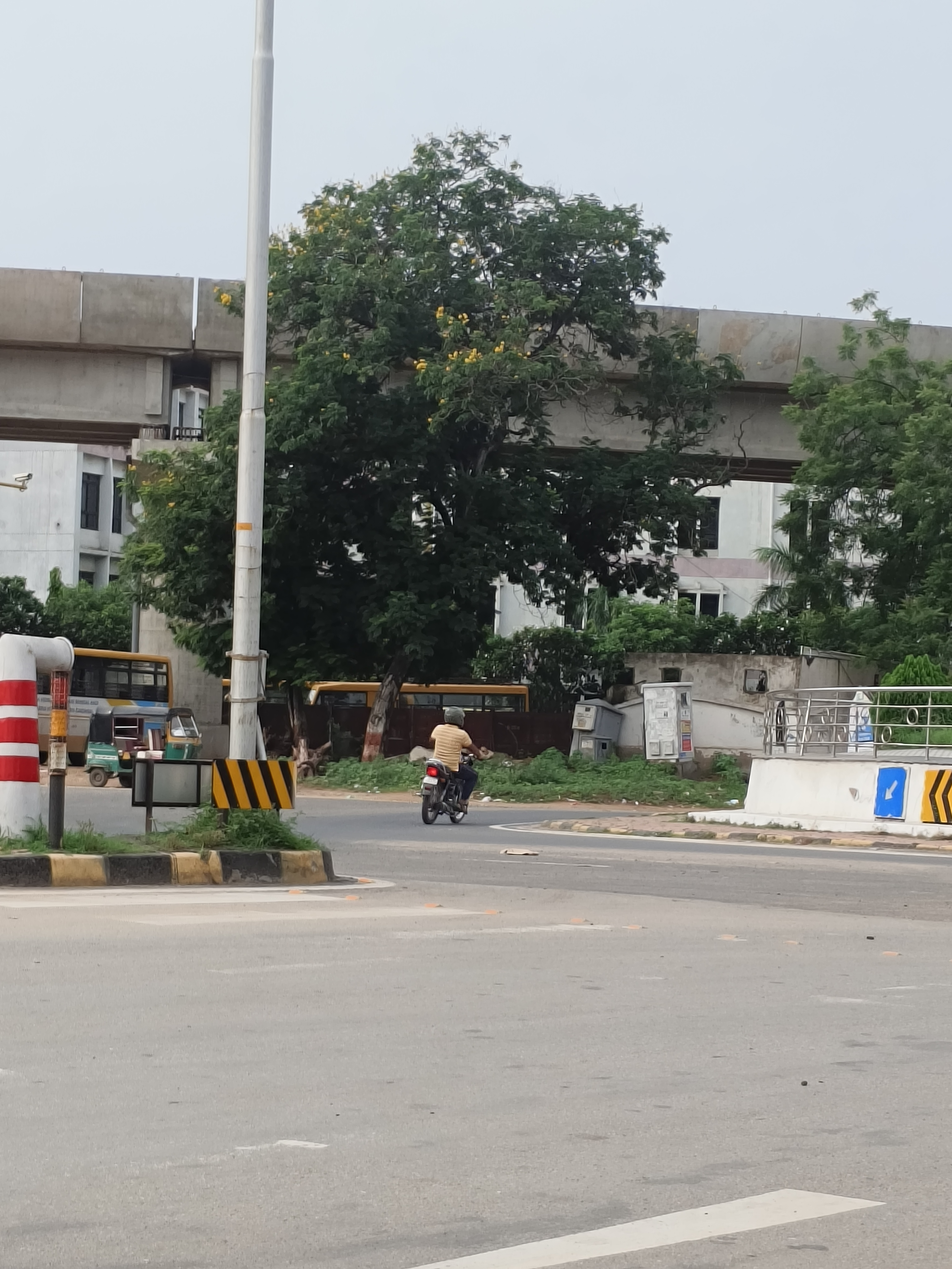BikeWithRider: (412, 702, 498, 828)
Helmet: (441, 703, 471, 731)
